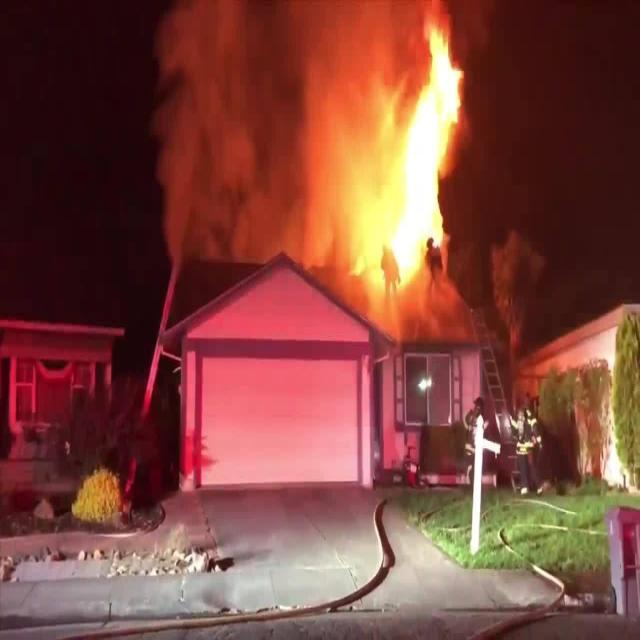Fire: (394, 28, 459, 268)
